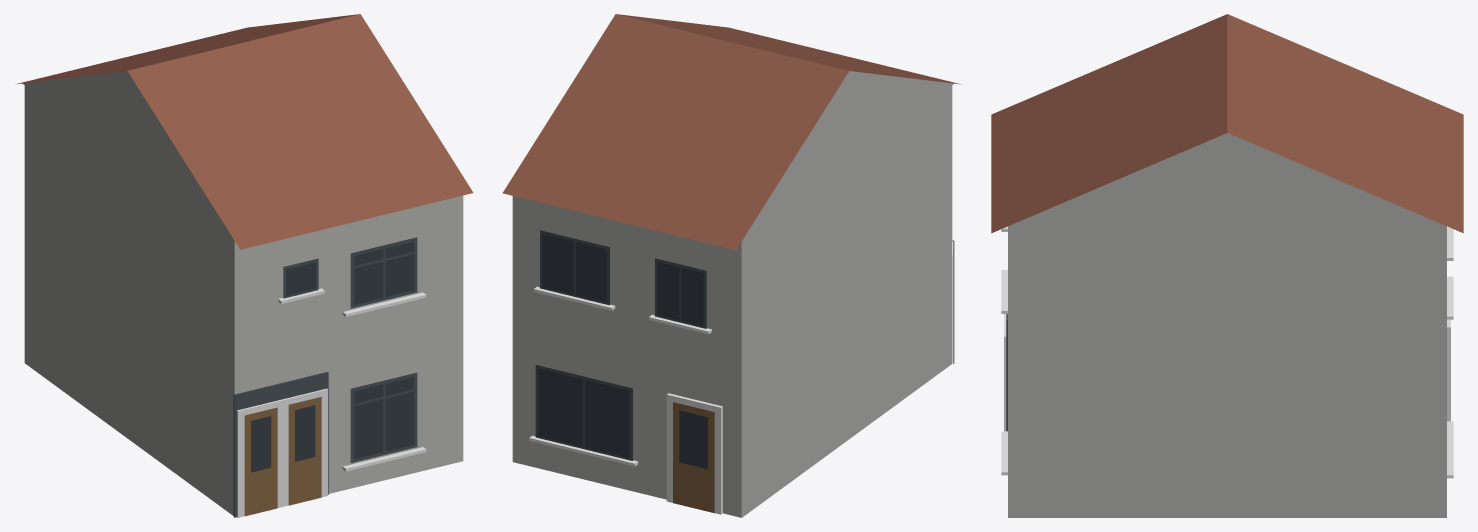
File: nd-td-pomona__darkframe__2__gable__long__solid__f0d0__mirror.glb
3 renders of one model, left to right at view 1: azimuth 30°, elevation 25°; view 2: azimuth 150°, elevation 25°; view 3: azimuth 270°, elevation 25°, orthographic. The views are drawn at different scales.
Visible parts, largest first — view 1: nd-td-pomona__darkframe__2__gable__long__solid__f0d0__mirror; view 2: nd-td-pomona__darkframe__2__gable__long__solid__f0d0__mirror; view 3: nd-td-pomona__darkframe__2__gable__long__solid__f0d0__mirror.
Boxes of the visible parts, left/top/right/bottom form: nd-td-pomona__darkframe__2__gable__long__solid__f0d0__mirror: left=16, top=14, right=473, bottom=517; nd-td-pomona__darkframe__2__gable__long__solid__f0d0__mirror: left=503, top=14, right=960, bottom=517; nd-td-pomona__darkframe__2__gable__long__solid__f0d0__mirror: left=991, top=14, right=1463, bottom=517.
Bounding box in the file's own units: 5.08 × 7.69 × 8.52.
